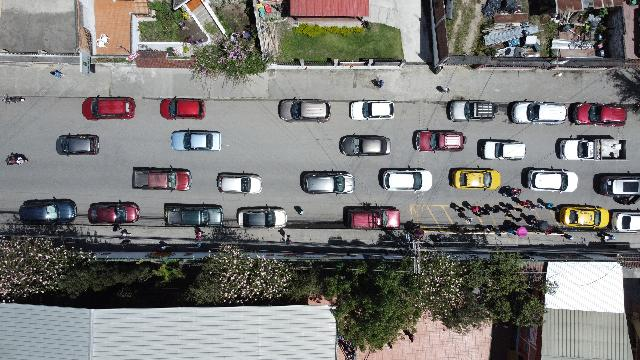Vehiculo: (555, 135, 627, 161), (19, 197, 76, 225), (520, 167, 578, 193), (342, 203, 400, 229), (568, 102, 628, 126), (507, 101, 567, 125), (132, 167, 192, 191), (164, 203, 223, 227), (556, 204, 610, 229), (82, 96, 136, 120), (278, 98, 332, 122), (300, 170, 354, 194), (378, 168, 432, 192), (599, 173, 639, 205), (88, 200, 140, 224), (412, 130, 466, 152), (448, 168, 500, 190), (236, 206, 288, 228), (447, 100, 498, 122), (340, 134, 390, 156), (476, 138, 526, 160), (171, 129, 221, 151), (56, 132, 100, 156), (160, 98, 206, 120), (216, 172, 262, 194), (350, 100, 394, 120), (612, 212, 640, 232)
